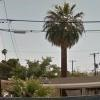Palm tree: (40, 1, 89, 80)
